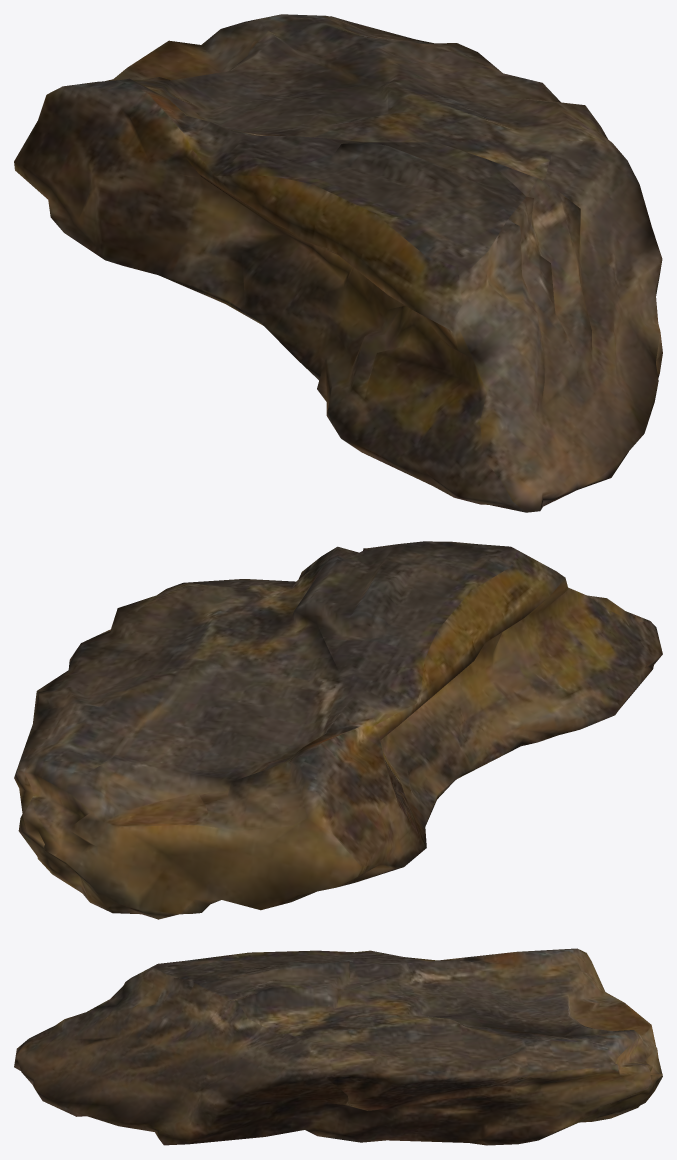
Rendered from rock_09.glb.
3 renders of one model, top to bottom at view 1: azimuth 30°, elevation 25°; view 2: azimuth 150°, elevation 25°; view 3: azimuth 270°, elevation 25°, orthographic. The views are drawn at different scales.
Visible parts, largest first — view 1: rock_09_LOD0; view 2: rock_09_LOD0; view 3: rock_09_LOD0.
Part boxes in pixels (bbox=[...]): rock_09_LOD0: bbox=[14, 14, 662, 512]; rock_09_LOD0: bbox=[14, 541, 662, 919]; rock_09_LOD0: bbox=[14, 948, 662, 1145].
Size of the model in its own units: 0.0738 by 0.0326 by 0.1446.
Materials: 1 (1 with a texture image).
